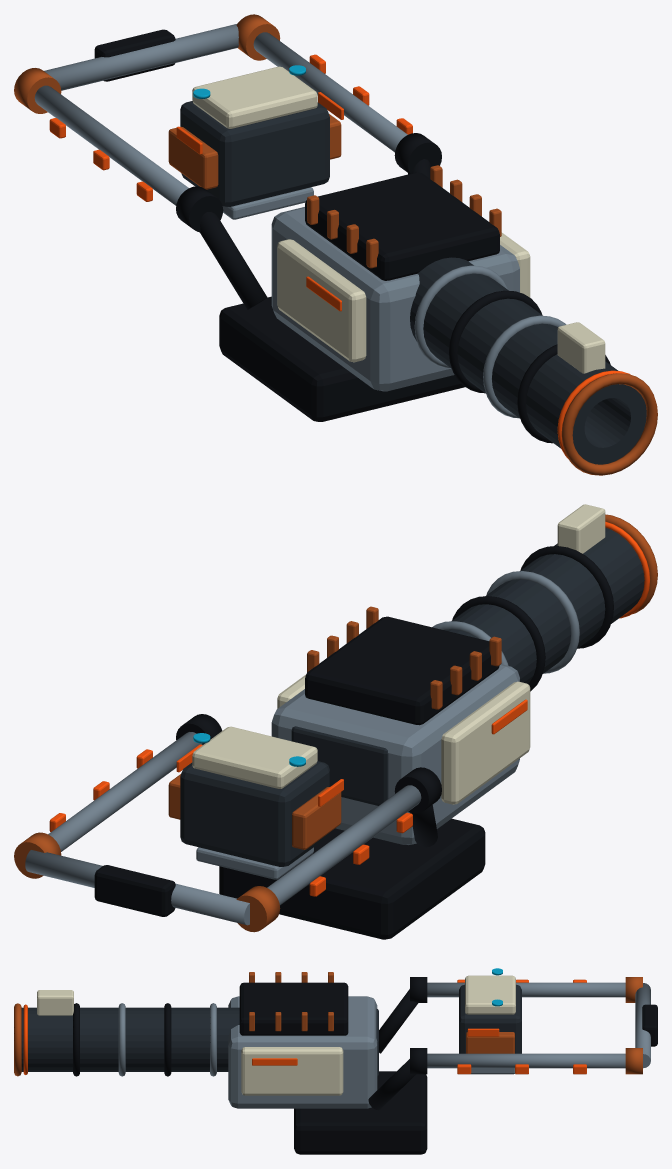
The model's file is M01-018_kinetic_counterweight_cannon.obj.
3 views of the same model, one above another, from view 1: azimuth 30°, elevation 25°; view 2: azimuth 150°, elevation 25°; view 3: azimuth 270°, elevation 25° (orthographic). The views are drawn at different scales.
Visible parts, largest first — view 1: M01-018_True_hollow_barrel, M01-018_Receiver_upper, M01-018_Receiver, M01-018_Socket_foot, M01-018_Tungsten_counterweight, M01-018_Ceramic_shield_-1, M01-018_Counterweight_top_cap, M01-018_Open_rear_crossbar, M01-018_Exposed_guide_rail_-1, M01-018_Exposed_guide_rail_1, M01-018_Muzzle_copper_ring, M01-018_Rear_support_leg_-1 (+13 smaller); view 2: M01-018_Socket_foot, M01-018_Receiver_upper, M01-018_True_hollow_barrel, M01-018_Receiver, M01-018_Tungsten_counterweight, M01-018_Ceramic_shield_-1, M01-018_Counterweight_top_cap, M01-018_Breech_hatch, M01-018_Exposed_guide_rail_-1, M01-018_Exposed_guide_rail_1, M01-018_Open_rear_crossbar, M01-018_Rear_stop (+13 smaller); view 3: M01-018_True_hollow_barrel, M01-018_Socket_foot, M01-018_Receiver, M01-018_Receiver_upper, M01-018_Ceramic_shield_1, M01-018_Exposed_guide_rail_1, M01-018_Exposed_guide_rail_-1, M01-018_Counterweight_top_cap, M01-018_Tungsten_counterweight, M01-018_Top_muzzle_sight, M01-018_Counterweight_guide_fin_1, M01-018_Open_rear_crossbar (+16 smaller).
Part boxes in pixels (x1=…): M01-018_True_hollow_barrel: x1=410, y1=257, x2=646, y2=464; M01-018_Receiver_upper: x1=305, y1=172, x2=499, y2=280; M01-018_Receiver: x1=271, y1=207, x2=519, y2=391; M01-018_Socket_foot: x1=219, y1=296, x2=464, y2=421; M01-018_Tungsten_counterweight: x1=180, y1=101, x2=329, y2=206; M01-018_Ceramic_shield_-1: x1=277, y1=239, x2=366, y2=362; M01-018_Counterweight_top_cap: x1=192, y1=66, x2=317, y2=128; M01-018_Open_rear_crossbar: x1=44, y1=24, x2=238, y2=90; M01-018_Exposed_guide_rail_-1: x1=34, y1=85, x2=188, y2=205; M01-018_Exposed_guide_rail_1: x1=253, y1=32, x2=407, y2=152; M01-018_Muzzle_copper_ring: x1=561, y1=373, x2=657, y2=475; M01-018_Rear_support_leg_-1: x1=200, y1=212, x2=267, y2=309; M01-018_Socket_foot: x1=219, y1=818, x2=485, y2=939; M01-018_Receiver_upper: x1=305, y1=616, x2=499, y2=725; M01-018_True_hollow_barrel: x1=444, y1=527, x2=644, y2=683; M01-018_Receiver: x1=271, y1=664, x2=519, y2=844; M01-018_Tungsten_counterweight: x1=180, y1=761, x2=329, y2=866; M01-018_Ceramic_shield_-1: x1=441, y1=681, x2=530, y2=804; M01-018_Counterweight_top_cap: x1=192, y1=726, x2=317, y2=788; M01-018_Breech_hatch: x1=291, y1=726, x2=388, y2=805; M01-018_Exposed_guide_rail_-1: x1=267, y1=785, x2=421, y2=905; M01-018_Exposed_guide_rail_1: x1=48, y1=732, x2=202, y2=851; M01-018_Open_rear_crossbar: x1=25, y1=850, x2=249, y2=925; M01-018_Rear_stop: x1=94, y1=865, x2=175, y2=916; M01-018_True_hollow_barrel: x1=21, y1=1007, x2=239, y2=1071; M01-018_Socket_foot: x1=294, y1=1071, x2=427, y2=1154; M01-018_Receiver: x1=228, y1=996, x2=377, y2=1108; M01-018_Receiver_upper: x1=239, y1=982, x2=348, y2=1035; M01-018_Ceramic_shield_1: x1=241, y1=1047, x2=343, y2=1095; M01-018_Exposed_guide_rail_1: x1=427, y1=1053, x2=625, y2=1068; M01-018_Exposed_guide_rail_-1: x1=427, y1=982, x2=625, y2=997; M01-018_Counterweight_top_cap: x1=465, y1=975, x2=515, y2=1014; M01-018_Tungsten_counterweight: x1=459, y1=984, x2=521, y2=1053; M01-018_Top_muzzle_sight: x1=37, y1=990, x2=73, y2=1015; M01-018_Counterweight_guide_fin_1: x1=466, y1=1032, x2=514, y2=1053; M01-018_Open_rear_crossbar: x1=635, y1=983, x2=650, y2=1068.
Size of the model in its own units: 1.17 by 0.9125 by 3.67.
